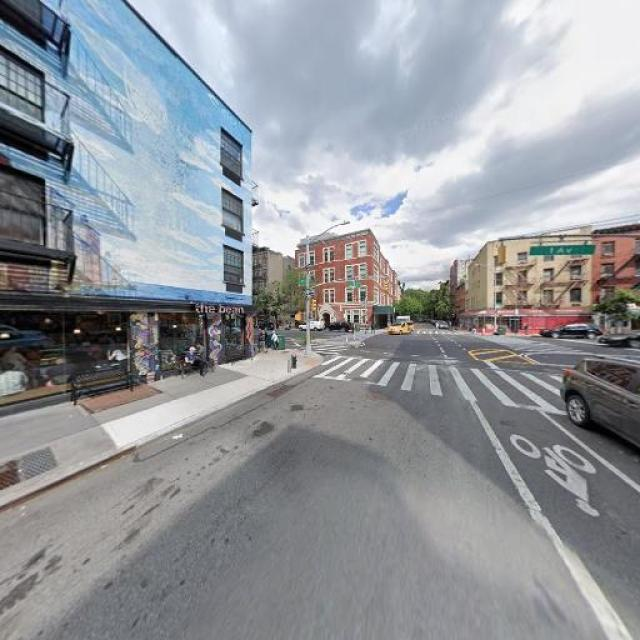Building: (1, 1, 248, 419), (473, 228, 589, 337), (295, 230, 397, 333), (595, 223, 640, 335)
